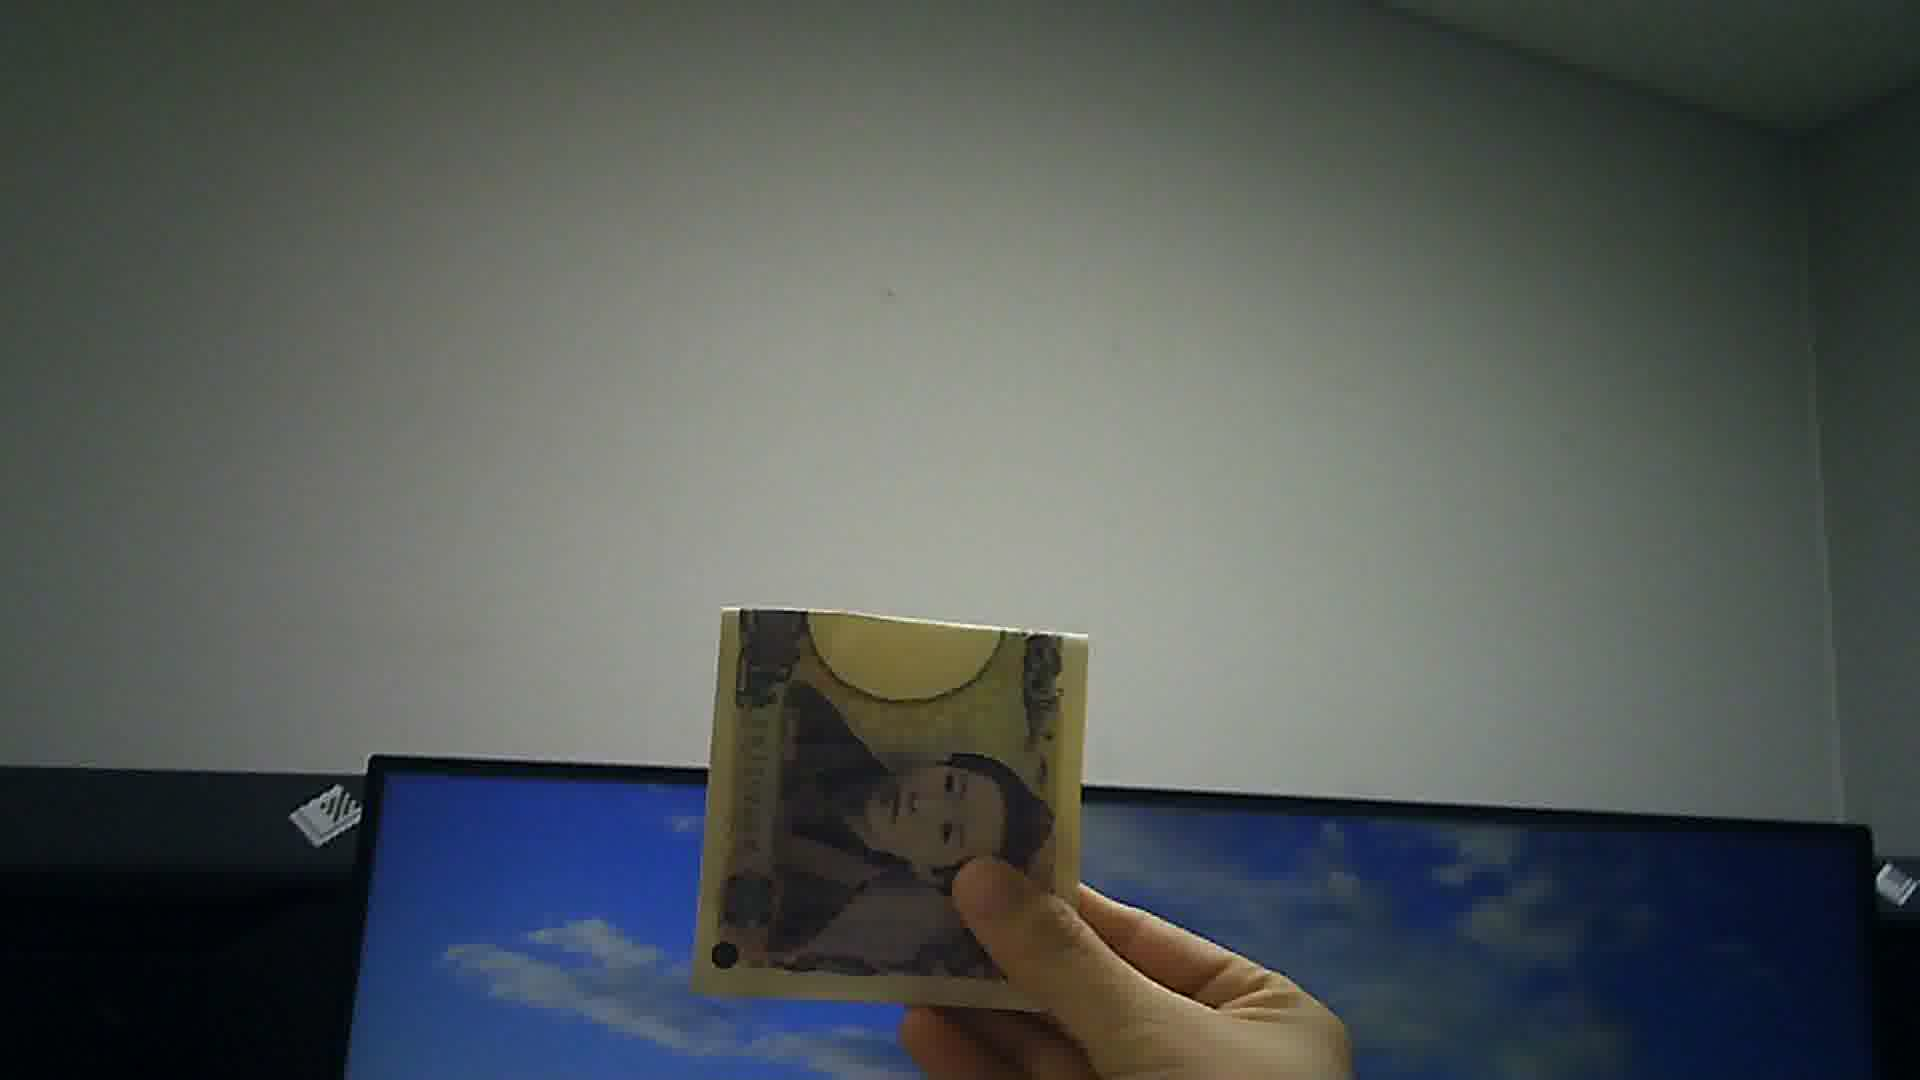5,000 Yen: (683, 596, 1092, 1015)
